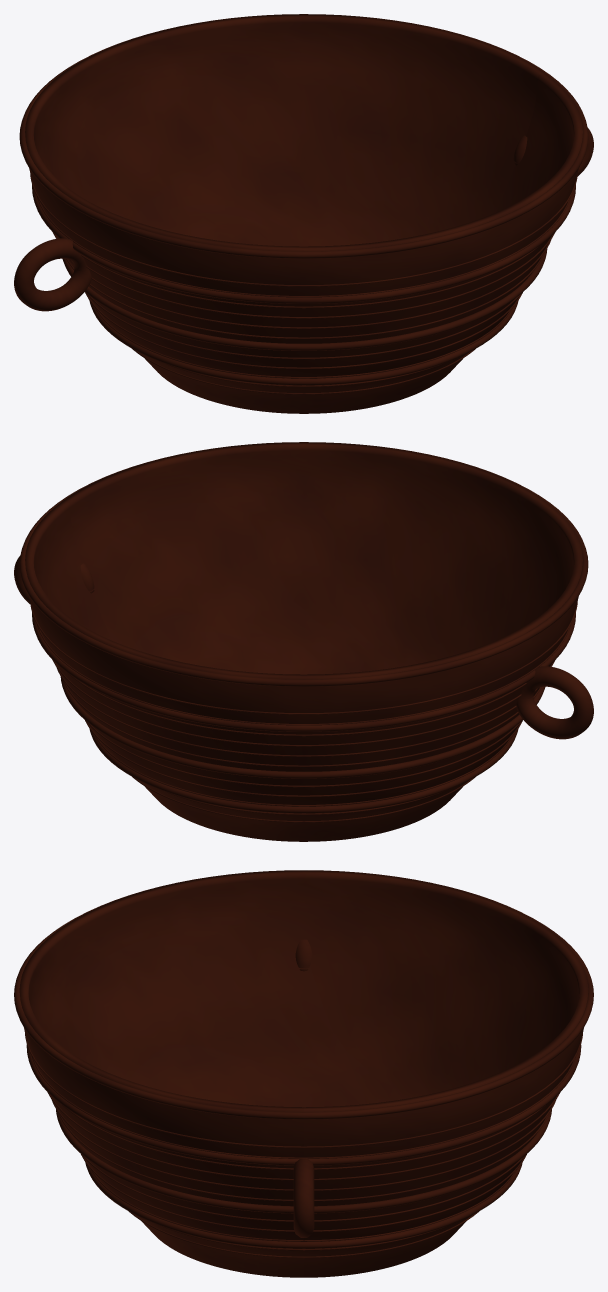
File: bcm-1106.glb
3 renders of one model, top to bottom at view 1: azimuth 30°, elevation 25°; view 2: azimuth 150°, elevation 25°; view 3: azimuth 270°, elevation 25°, orthographic.
Visible parts, largest first — view 1: Continuous hollow vessel with formed lip; view 2: Continuous hollow vessel with formed lip; view 3: Continuous hollow vessel with formed lip.
Part boxes in pixels (<box>): Continuous hollow vessel with formed lip: <box>14,14,593,413</box>; Continuous hollow vessel with formed lip: <box>14,442,593,841</box>; Continuous hollow vessel with formed lip: <box>14,870,593,1277</box>.
Size of the model in its own units: 1.43 by 0.51 by 1.22.
